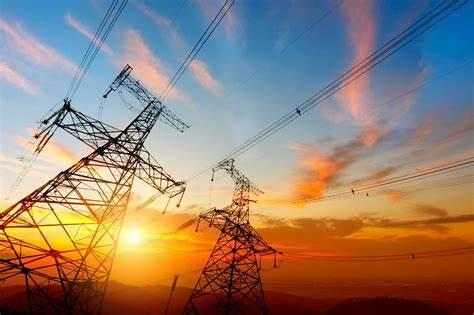power_tower: (0, 60, 192, 315), (189, 154, 284, 315)
